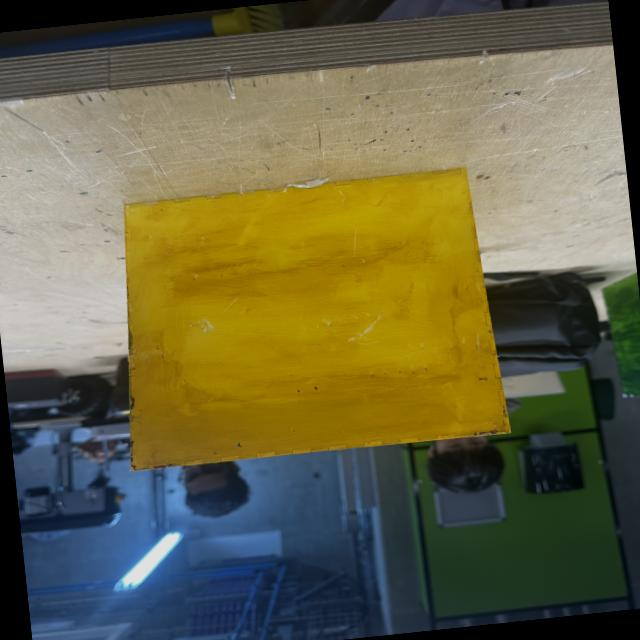yellow_bin: (101, 165, 514, 473)
